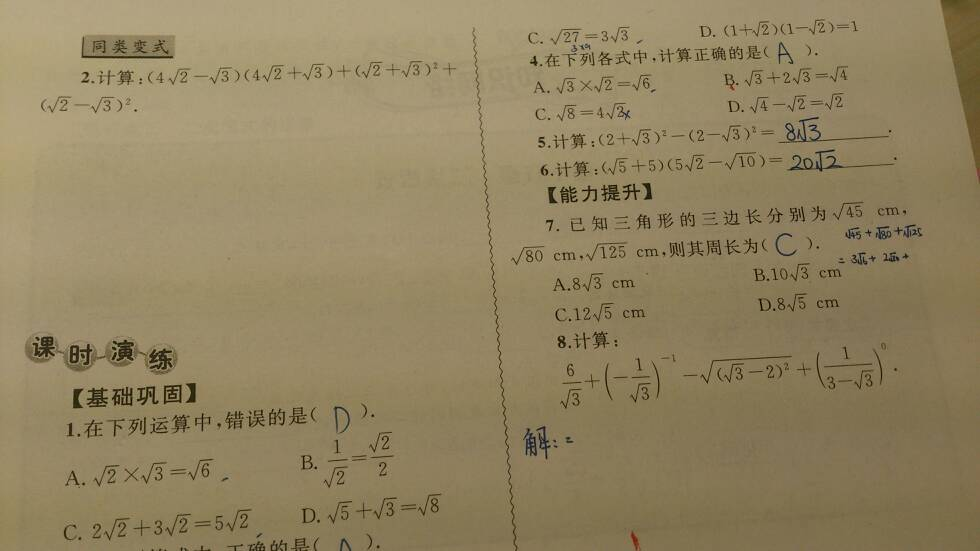sqrt: (694, 351, 797, 387), (581, 234, 634, 263), (508, 240, 554, 272), (828, 197, 873, 221), (223, 504, 256, 534), (185, 453, 219, 482), (99, 516, 133, 543), (325, 499, 356, 527), (626, 381, 660, 406), (139, 459, 171, 485), (324, 463, 357, 488), (366, 428, 395, 456), (417, 491, 446, 519), (373, 493, 400, 521), (93, 463, 122, 489), (558, 387, 588, 410), (550, 24, 581, 46), (788, 261, 819, 283), (592, 300, 619, 325), (399, 57, 425, 82), (785, 289, 811, 314), (259, 62, 286, 85), (853, 367, 881, 389), (749, 16, 774, 40), (807, 14, 833, 36), (211, 63, 235, 86), (299, 61, 326, 81), (167, 64, 191, 85), (359, 60, 384, 80), (610, 25, 635, 45), (583, 272, 607, 291)
square: (427, 56, 440, 72), (781, 357, 791, 374), (122, 95, 131, 106)
